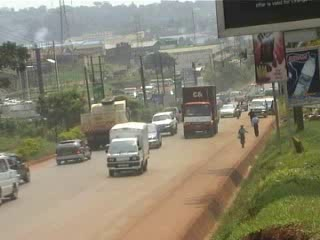Car: (51, 136, 92, 166), (4, 152, 35, 183), (148, 110, 180, 137), (143, 120, 163, 150), (217, 103, 240, 120)
Motorcycle: (229, 103, 243, 119)
